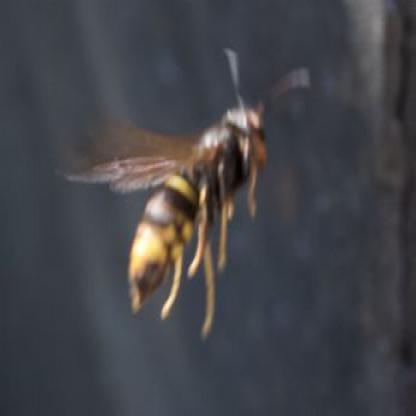Asian Hornet: (49, 49, 330, 338)
